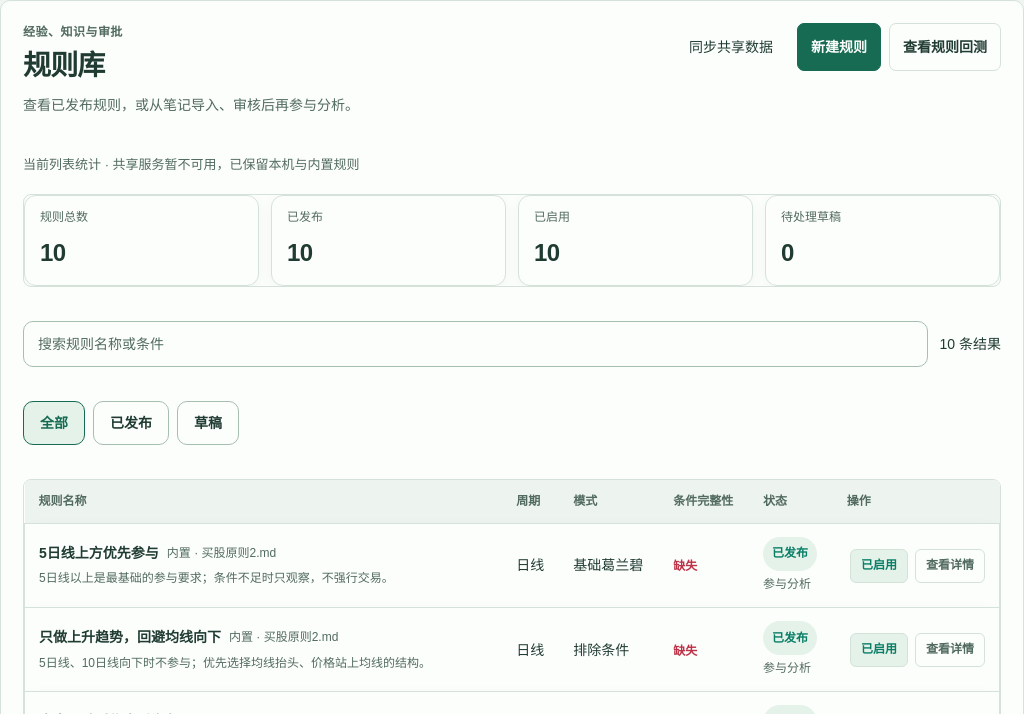
it: RulesPage interactions › creates a draft but prevents publishing without computable conditions
This screenshot has width=1024, height=714.
Click the button "新建规则" at [839, 47], box [797, 23, 881, 71]
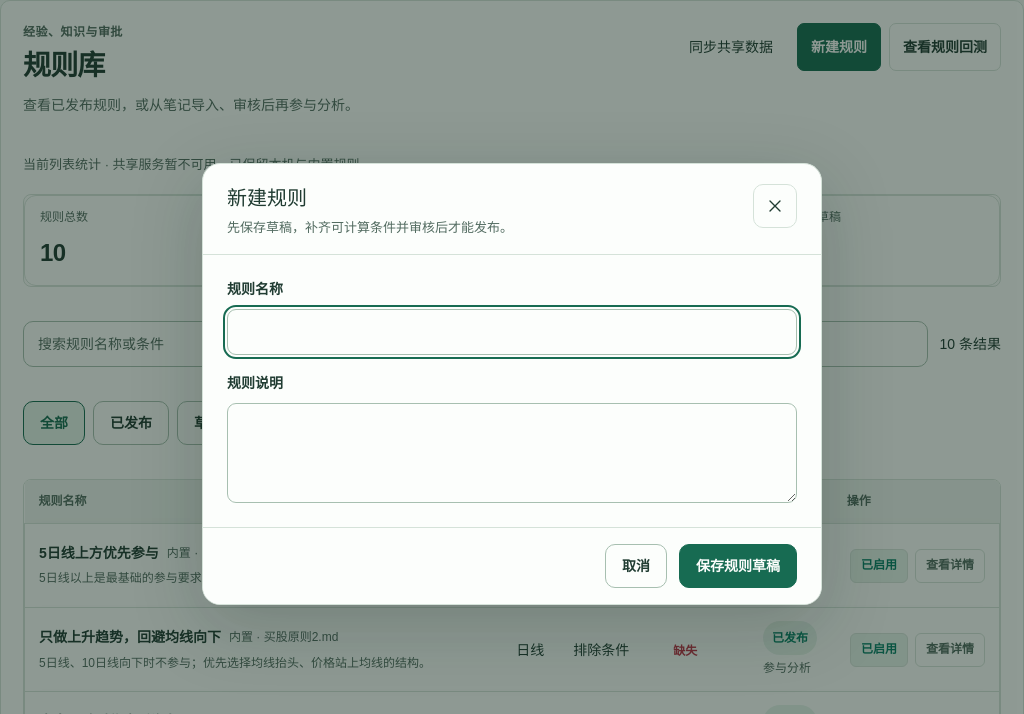
Type "回踩 MA5 不追高" into the field labelled "规则名称" at [512, 332], box [227, 309, 797, 355]
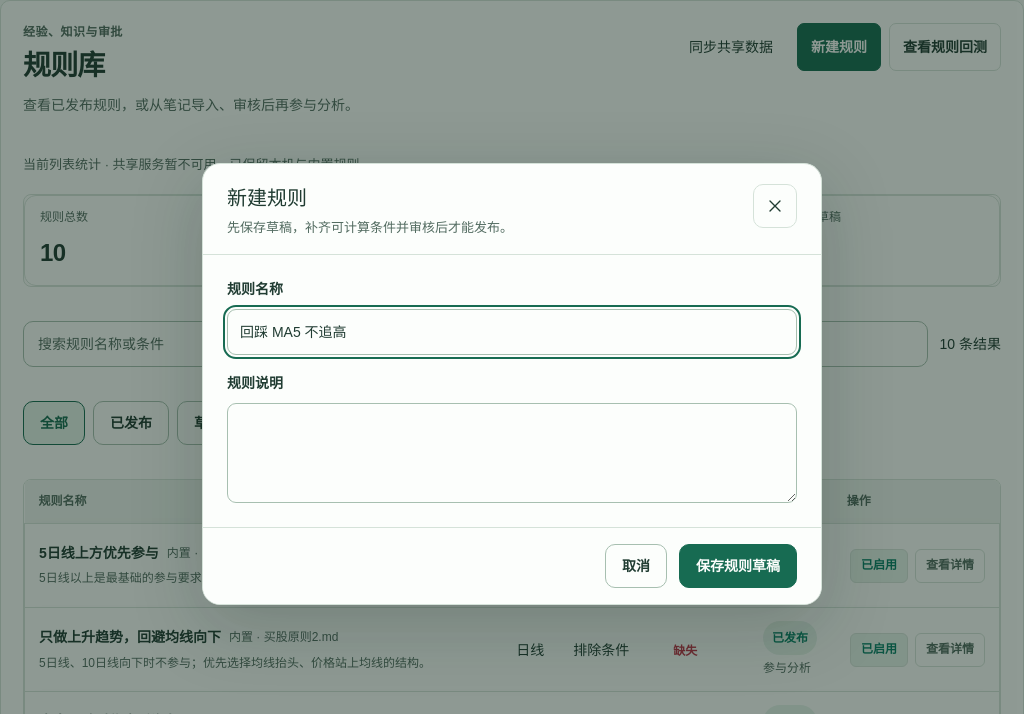
Type "价格回踩 MA5 后再观察。" into the text box labelled "规则说明" at [512, 453], box [227, 403, 797, 503]
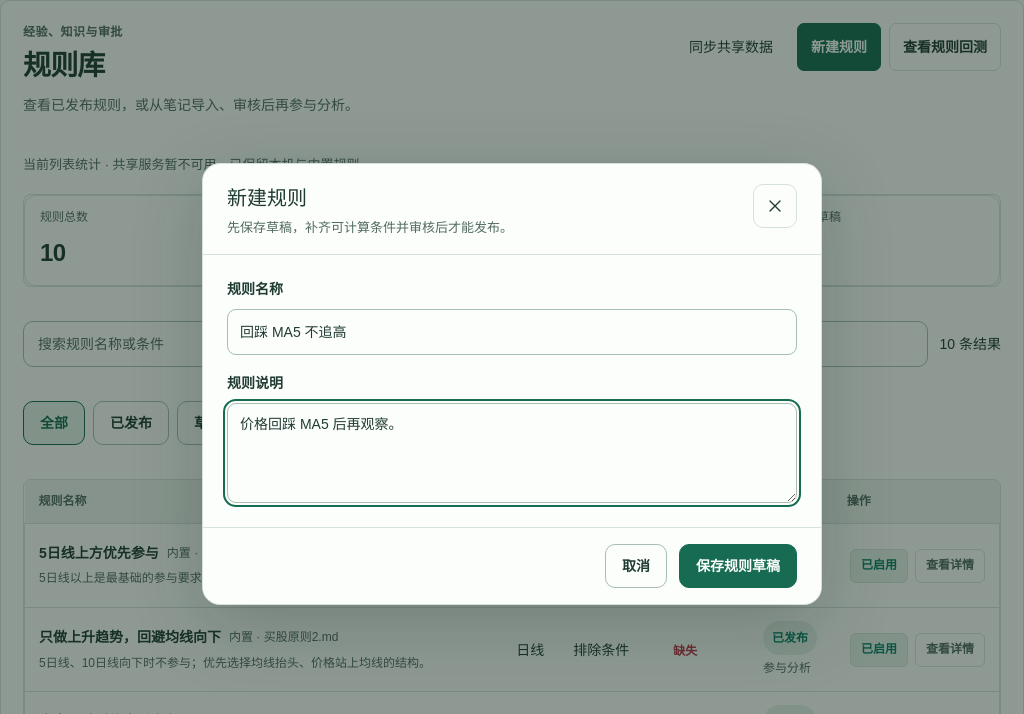
Click the button "保存规则草稿" at [738, 566], box [679, 544, 797, 588]
(page scrolled)
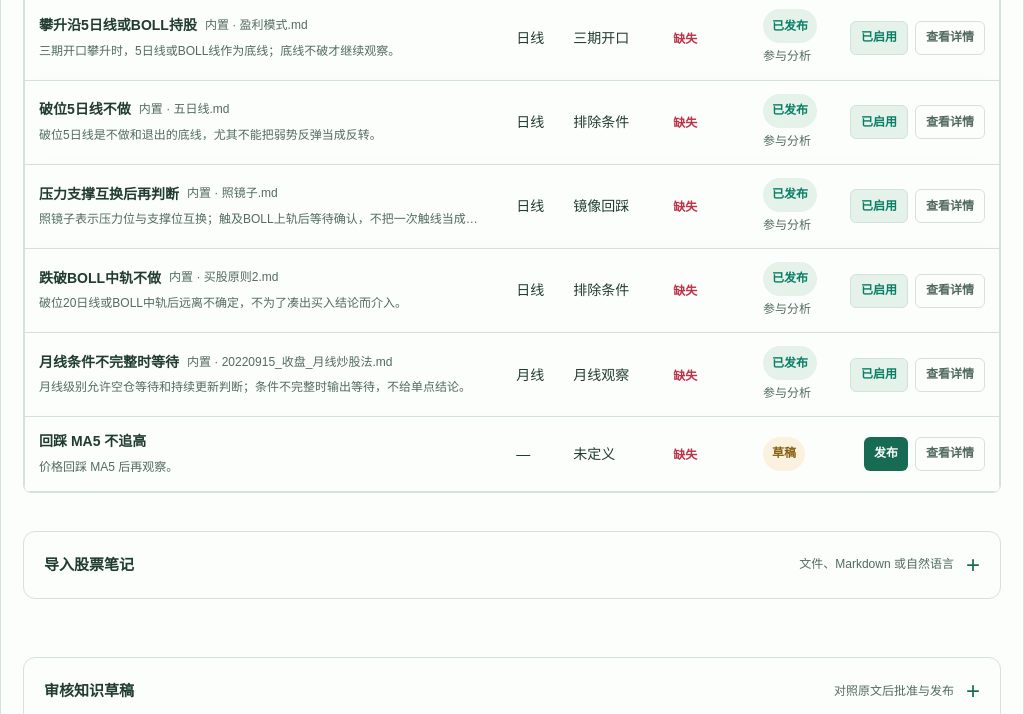
Expected: the heading "回踩 MA5 不追高" is shown, [39, 430, 146, 453]
Click the button with aria-label "发布回踩 MA5 不追高" at [886, 454], box [864, 437, 908, 471]
(page scrolled)
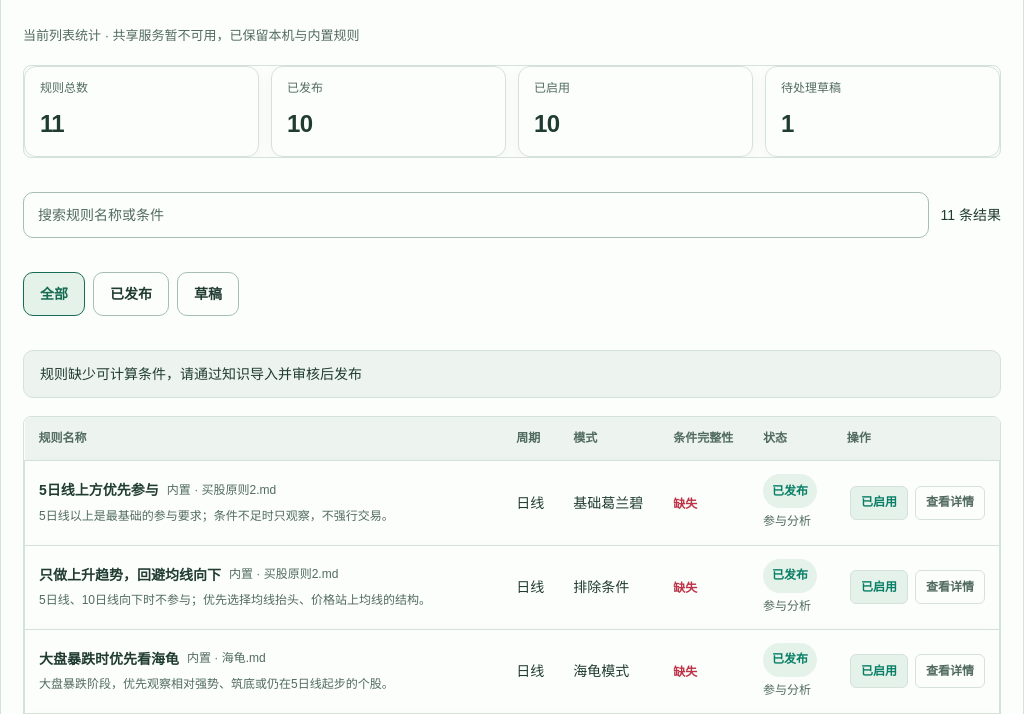
Expected: the message shows "缺少可计算条件", [40, 366, 362, 382]
